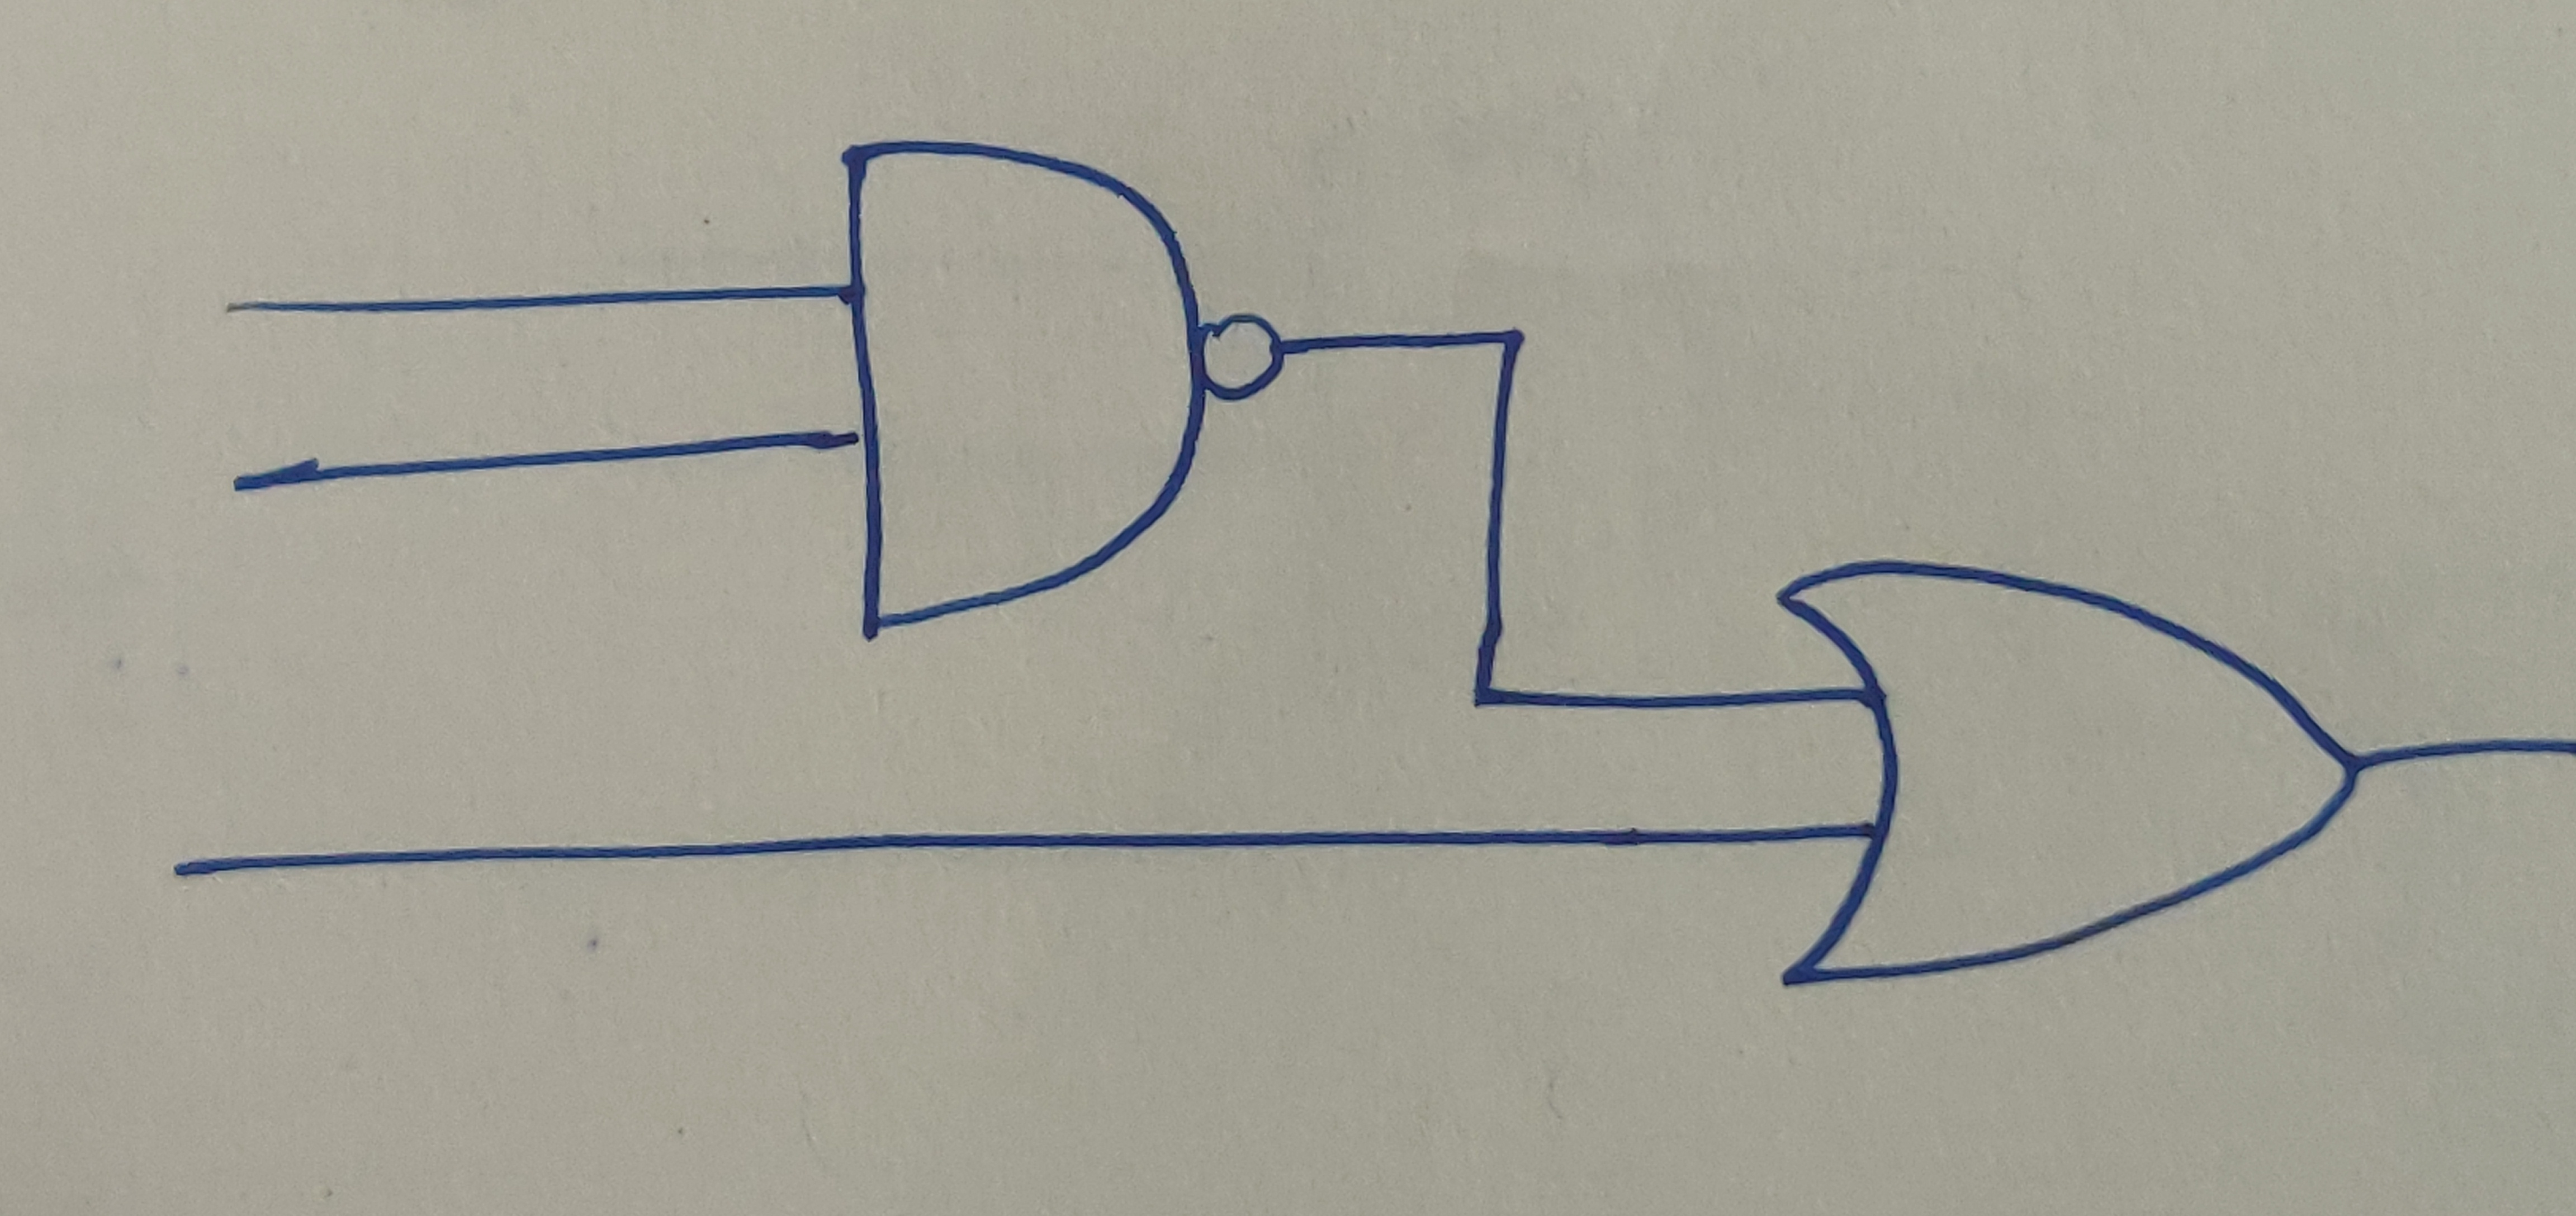and: (839, 135, 1212, 638)
not: (1203, 312, 1291, 408)
or: (1768, 559, 2366, 993)
